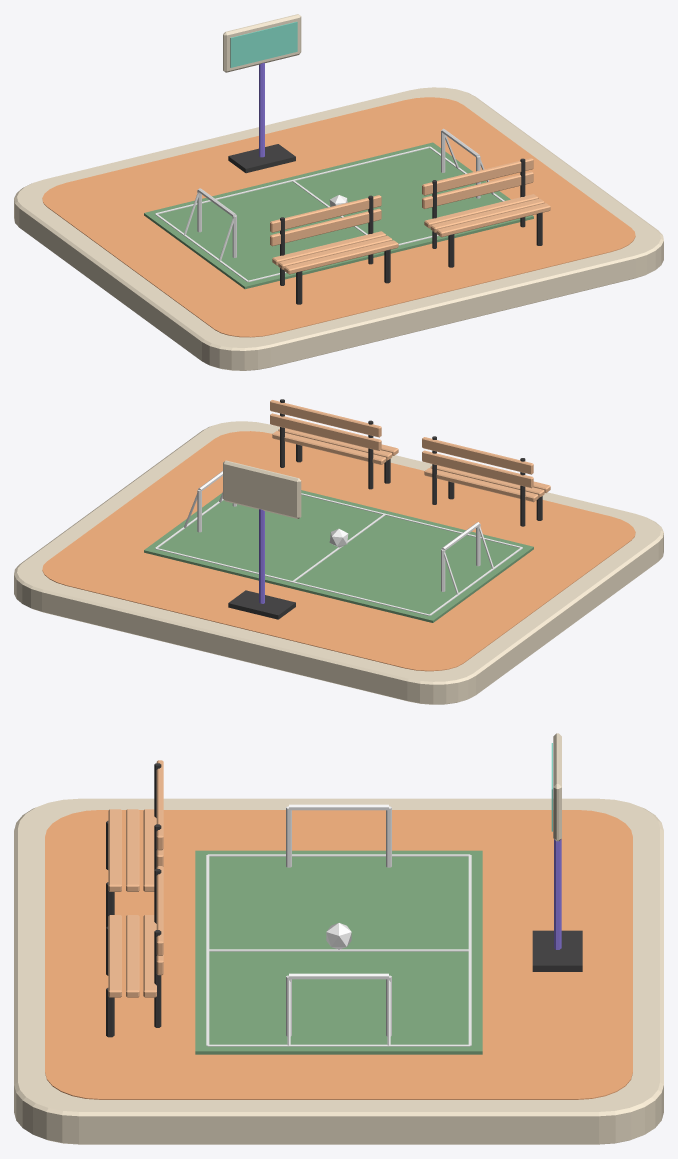
File: room.fbx
The picture shows the model from 3 angles, top to bottom: view 1: azimuth 30°, elevation 25°; view 2: azimuth 150°, elevation 25°; view 3: azimuth 270°, elevation 25°; orthographic projection. The views are drawn at different scales.
Parts seen in each view (by area): view 1: COM-02 Floor Surface, COM-01 Rounded Base Direct, Court surface, Inset, Sign panel, Back slat.003, Back slat, Back slat.001, Back slat.002, Foot, Seat slat.003, Seat slat (+6 smaller); view 2: COM-02 Floor Surface, COM-01 Rounded Base Direct, Court surface, Sign panel, Back slat.001, Back slat, Back slat.002, Back slat.003, Foot, Seat slat.002, Seat slat.005, Sideline.001 (+4 smaller); view 3: COM-02 Floor Surface, Court surface, COM-01 Rounded Base Direct, Foot, Seat slat, Seat slat.001, Seat slat.003, Seat slat.004, Seat slat.005, Seat slat.002, Sign panel, Stand (+9 smaller).
Boxes of the visible parts, box(x1,y1,x2,y2) form: COM-02 Floor Surface: box(42, 97, 635, 337); COM-01 Rounded Base Direct: box(14, 87, 663, 370); Court surface: box(144, 142, 533, 289); Inset: box(230, 21, 297, 67); Sign panel: box(223, 14, 301, 72); Back slat.003: box(422, 158, 533, 195); Back slat: box(270, 208, 381, 246); Back slat.001: box(270, 195, 381, 232); Back slat.002: box(422, 171, 533, 208); Foot: box(228, 144, 295, 173); Seat slat.003: box(436, 203, 550, 237); Seat slat: box(284, 240, 398, 274); COM-02 Floor Surface: box(42, 431, 635, 671); COM-01 Rounded Base Direct: box(14, 421, 663, 704); Court surface: box(144, 490, 533, 622); Sign panel: box(223, 460, 301, 518); Back slat.001: box(422, 437, 533, 474); Back slat: box(422, 450, 533, 488); Back slat.002: box(270, 413, 381, 450); Back slat.003: box(270, 400, 381, 437); Foot: box(228, 590, 295, 619); Seat slat.002: box(424, 468, 538, 502); Seat slat.005: box(272, 431, 386, 464); Sideline.001: box(155, 548, 429, 615); COM-02 Floor Surface: box(45, 810, 632, 1099); Court surface: box(195, 850, 482, 1054); COM-01 Rounded Base Direct: box(14, 798, 663, 1144); Foot: box(532, 930, 582, 971); Seat slat: box(108, 809, 121, 891); Seat slat.001: box(126, 809, 139, 891); Seat slat.003: box(108, 915, 121, 997); Seat slat.004: box(126, 915, 139, 997); Seat slat.005: box(143, 915, 156, 997); Seat slat.002: box(143, 809, 156, 891); Sign panel: box(553, 733, 561, 841); Stand: box(554, 839, 561, 949).
Bounding box in the file's own units: 600 × 202 × 520.
